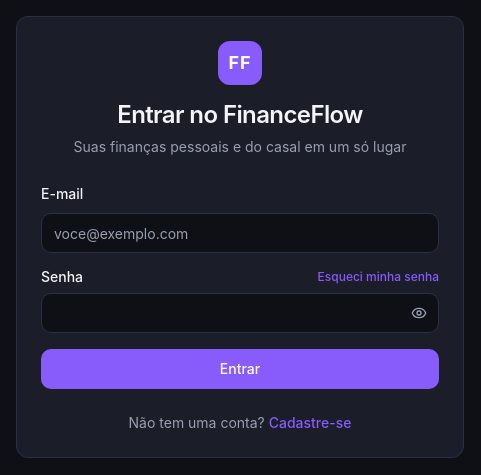
Test: esqueci minha senha › o login leva à página de pedir o link
Click the link "Esqueci minha senha" at (378, 277), box x1=318 y1=269 x2=439 y2=285
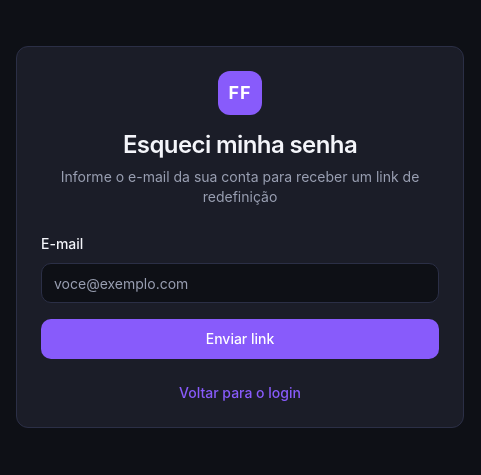
Check: the heading "Esqueci minha senha" is shown, box x1=123 y1=129 x2=357 y2=161
